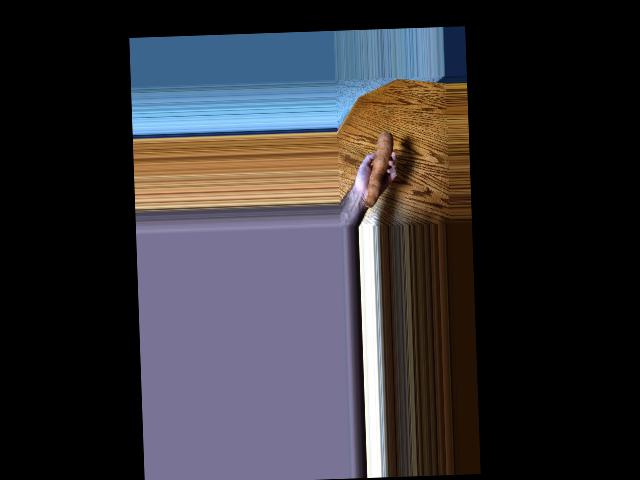sweet_potato: (366, 134, 397, 203)
